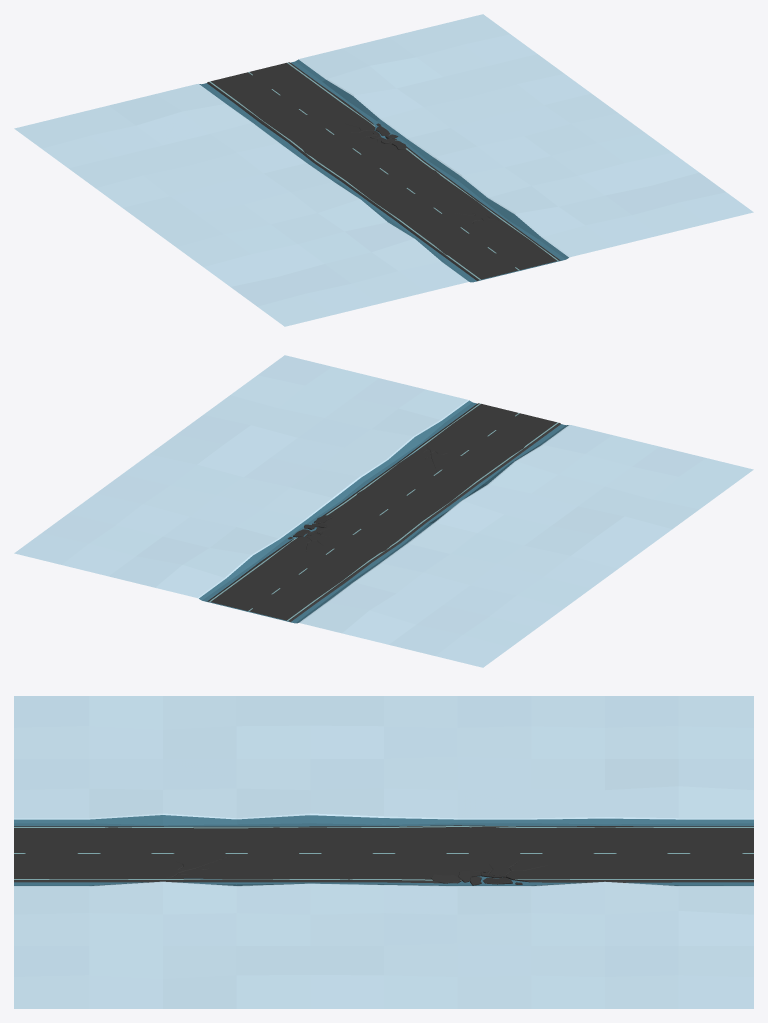
File: model_road_snow_straight_02.fbx
3 views of the same model, one above another, from view 1: azimuth 30°, elevation 25°; view 2: azimuth 150°, elevation 25°; view 3: azimuth 270°, elevation 25° (orthographic). The views are drawn at different scales.
Visible parts, largest first — view 1: model_road_snow_straight_02; view 2: model_road_snow_straight_02; view 3: model_road_snow_straight_02.
Boxes of the visible parts, <box> form: model_road_snow_straight_02: <box>14,14,753,326</box>; model_road_snow_straight_02: <box>14,355,753,667</box>; model_road_snow_straight_02: <box>14,696,753,1008</box>.
Size of the model in its own units: 6161 by 68.27 by 6161.
1 material, 1 textured.
